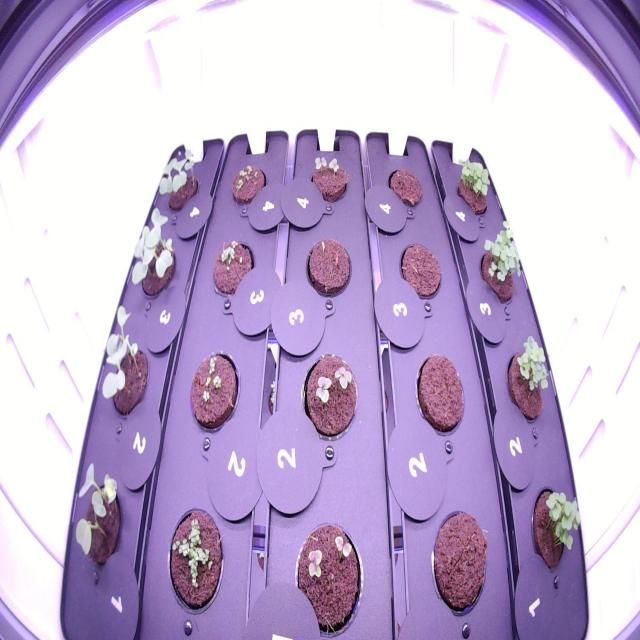germination: (286, 514, 368, 638), (160, 493, 230, 619), (88, 302, 154, 420), (297, 343, 363, 447), (526, 479, 584, 593), (117, 203, 184, 301), (70, 454, 125, 572), (184, 341, 241, 439), (473, 214, 527, 310), (501, 328, 550, 431), (302, 231, 354, 306), (209, 231, 258, 306), (153, 147, 203, 220), (450, 153, 494, 225), (303, 150, 352, 209), (226, 158, 270, 212)
pod: (428, 500, 493, 631), (411, 346, 468, 445), (396, 238, 445, 308), (382, 161, 427, 213)
